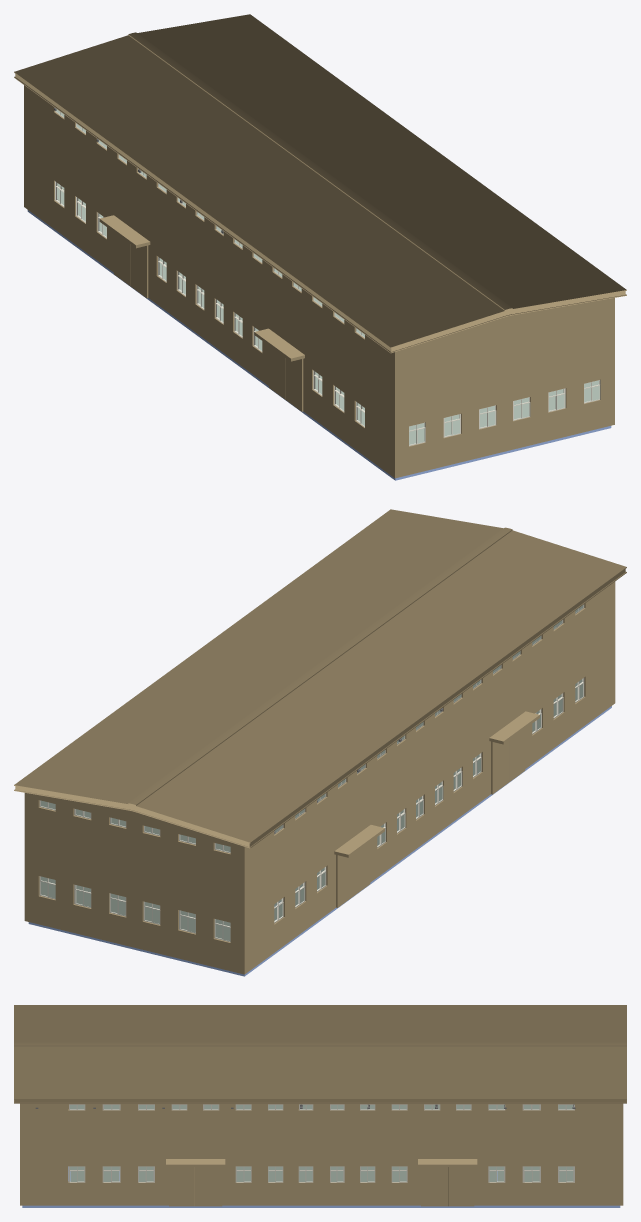
File: 房子(带玻璃).fbx
3 views of the same model, one above another, from view 1: azimuth 30°, elevation 25°; view 2: azimuth 150°, elevation 25°; view 3: azimuth 270°, elevation 25° (orthographic). The views are drawn at different scales.
Parts seen in each view (by area): view 1: 墙体和屋顶, 玻璃, 窗户, 地板; view 2: 墙体和屋顶, 玻璃, 窗户, 地板; view 3: 墙体和屋顶, 玻璃, 窗户, 地板.
Part boxes in pixels (x1,y1,x2,y2): 墙体和屋顶: [14, 14, 626, 478]; 玻璃: [56, 109, 599, 444]; 窗户: [55, 111, 600, 446]; 地板: [27, 210, 611, 480]; 墙体和屋顶: [14, 509, 626, 974]; 玻璃: [41, 605, 583, 940]; 窗户: [39, 604, 584, 942]; 地板: [28, 706, 611, 976]; 墙体和屋顶: [14, 1005, 626, 1206]; 玻璃: [70, 1105, 573, 1181]; 窗户: [68, 1104, 574, 1182]; 地板: [22, 1166, 620, 1207].
Bounding box in the file's own units: 81.97 × 47.02 × 215.
